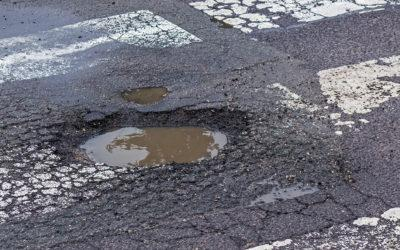pothole: (45, 104, 264, 172)
